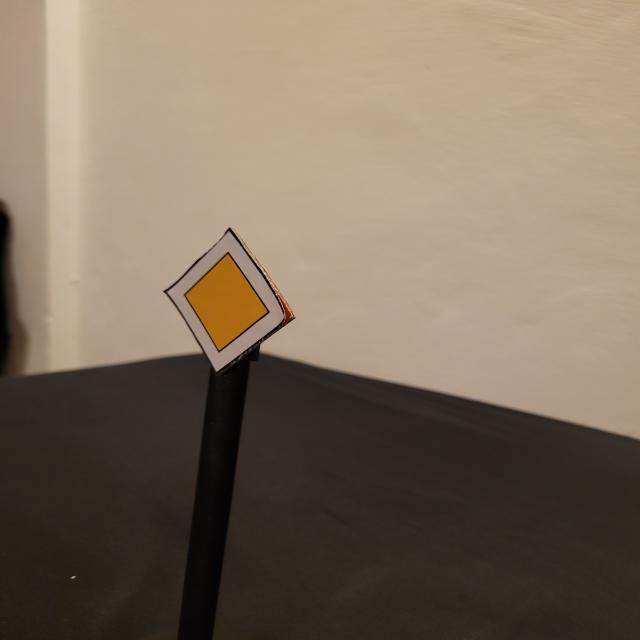priority: (162, 228, 295, 376)
